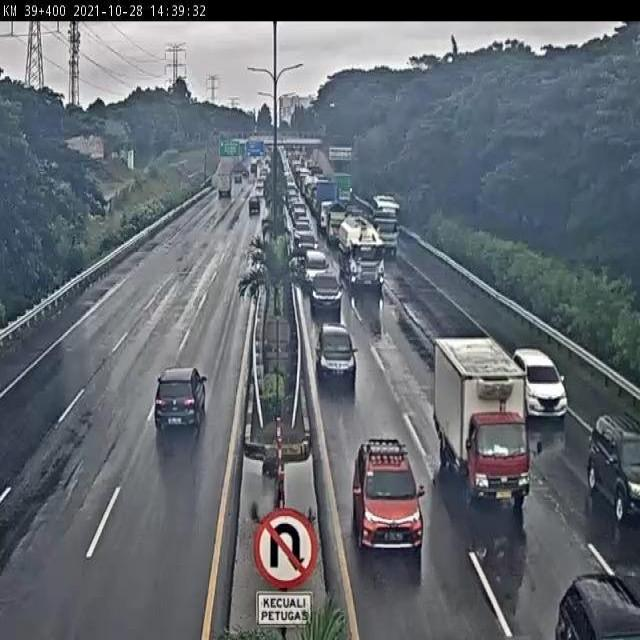big truck: (334, 216, 388, 304)
car: (347, 426, 431, 570), (576, 396, 640, 547), (144, 352, 230, 456), (510, 341, 577, 424), (313, 316, 355, 395), (305, 265, 344, 316), (242, 192, 266, 217)
small truck: (428, 330, 535, 514), (369, 207, 399, 257), (209, 168, 239, 203)
